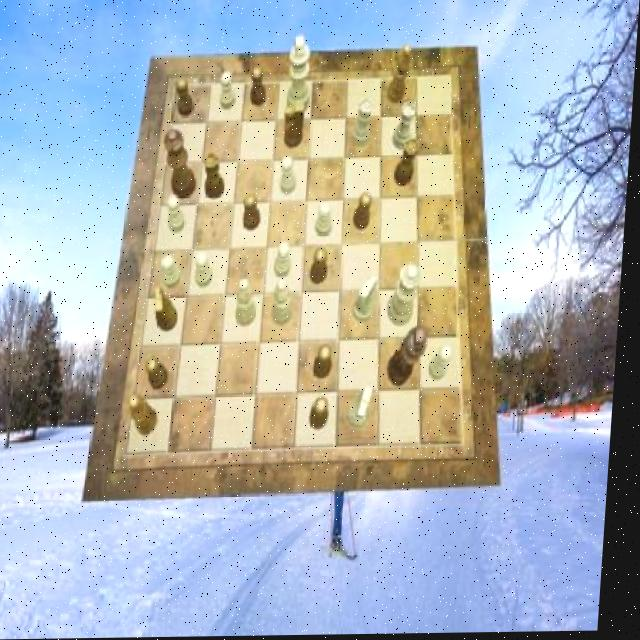bishop: (388, 46, 411, 106), (132, 396, 164, 437)
black-bishop: (391, 329, 433, 389)
black-king: (155, 287, 183, 333), (284, 105, 307, 150)
black-knight: (149, 356, 174, 391), (174, 79, 196, 118), (245, 195, 265, 232), (314, 248, 333, 286), (251, 68, 269, 108), (314, 397, 334, 432), (355, 194, 374, 230), (318, 345, 337, 380)
black-pawn: (162, 130, 201, 199)
black-queen: (396, 140, 421, 188), (204, 153, 229, 199)
black-rook: (275, 279, 298, 326), (240, 280, 262, 328)
white-bishop: (287, 36, 315, 115)
white-king: (355, 277, 381, 323), (352, 388, 378, 429)
white-knight: (432, 347, 457, 381), (168, 196, 190, 234), (164, 255, 187, 289), (219, 72, 238, 111), (276, 242, 295, 279), (198, 251, 217, 288), (281, 156, 299, 195), (316, 204, 335, 238)
white-pawn: (390, 266, 424, 328)
white-queen: (393, 104, 418, 152), (352, 100, 375, 148)
